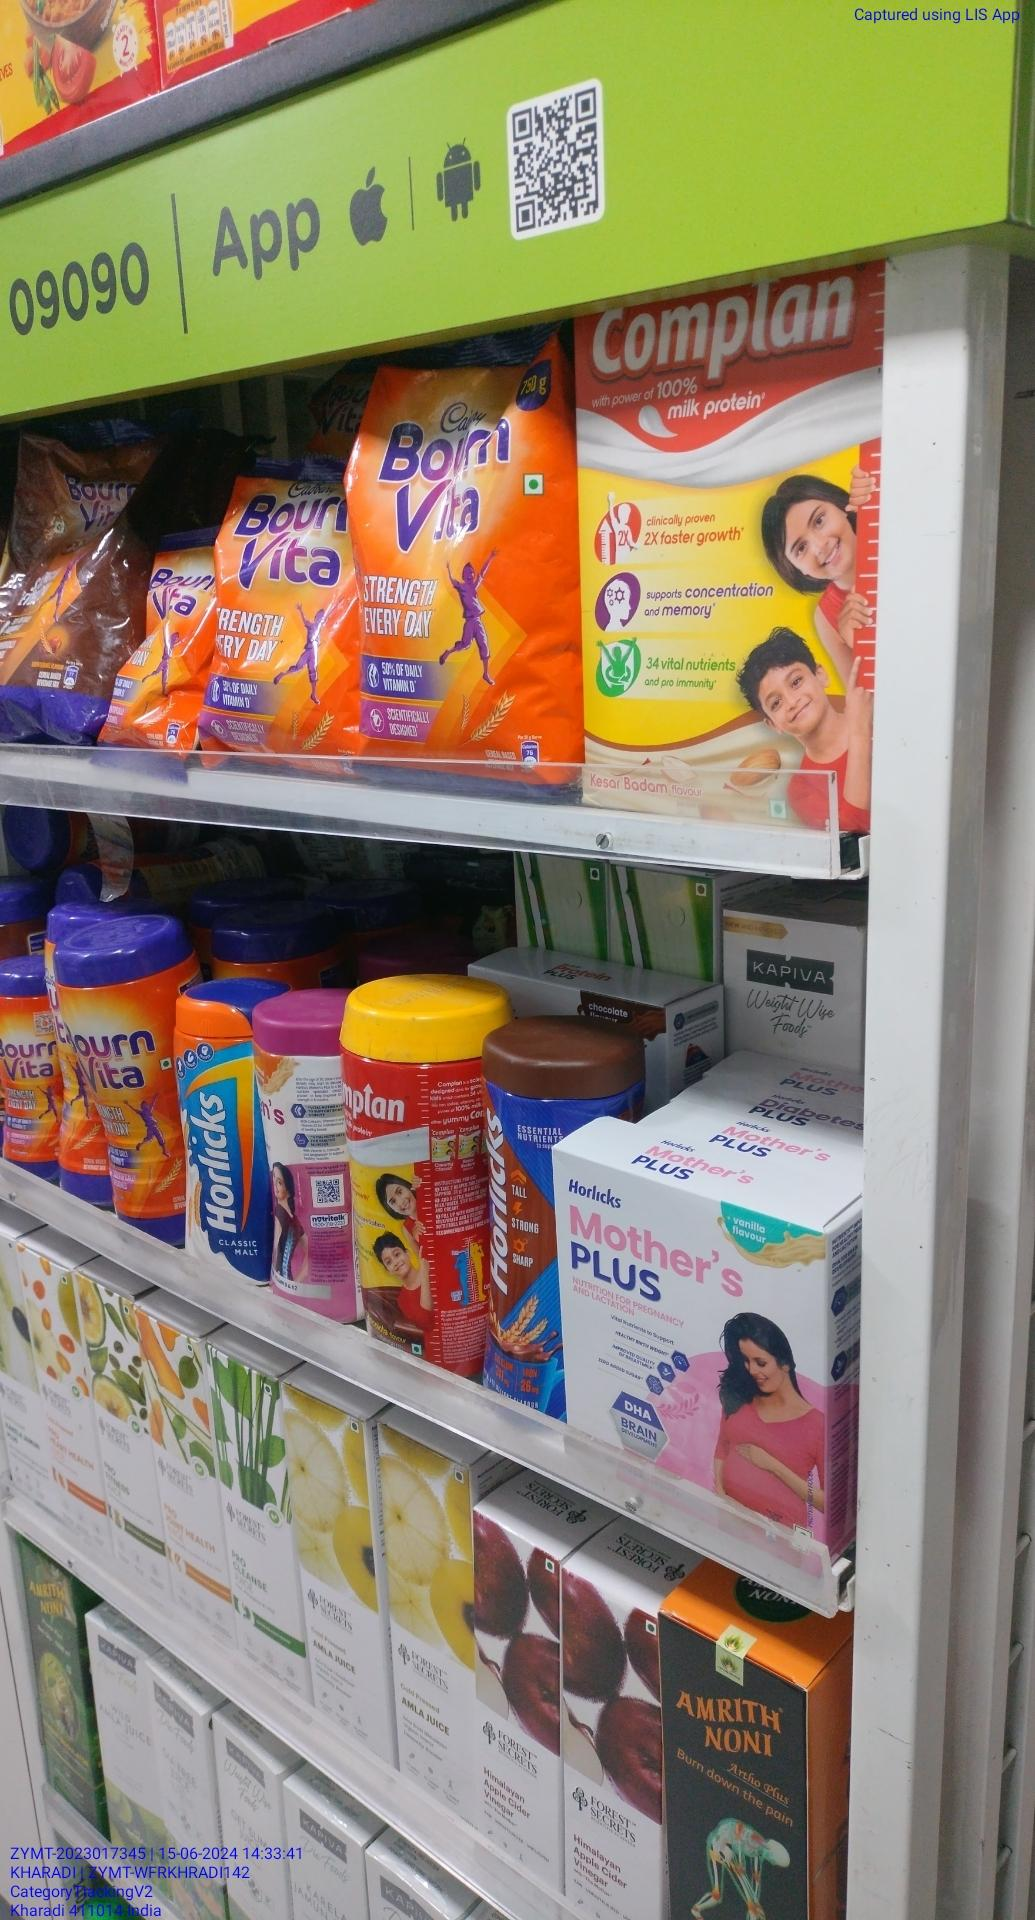BOURN_VITA_750_G_POUCH: (340, 358, 568, 794)
COMPLAN_KESAR_BADAM_500_GMS_PACK: (576, 294, 873, 836)
HORLICK_CLASSIC_MALT_500_G_JAR: (173, 982, 265, 1275)
